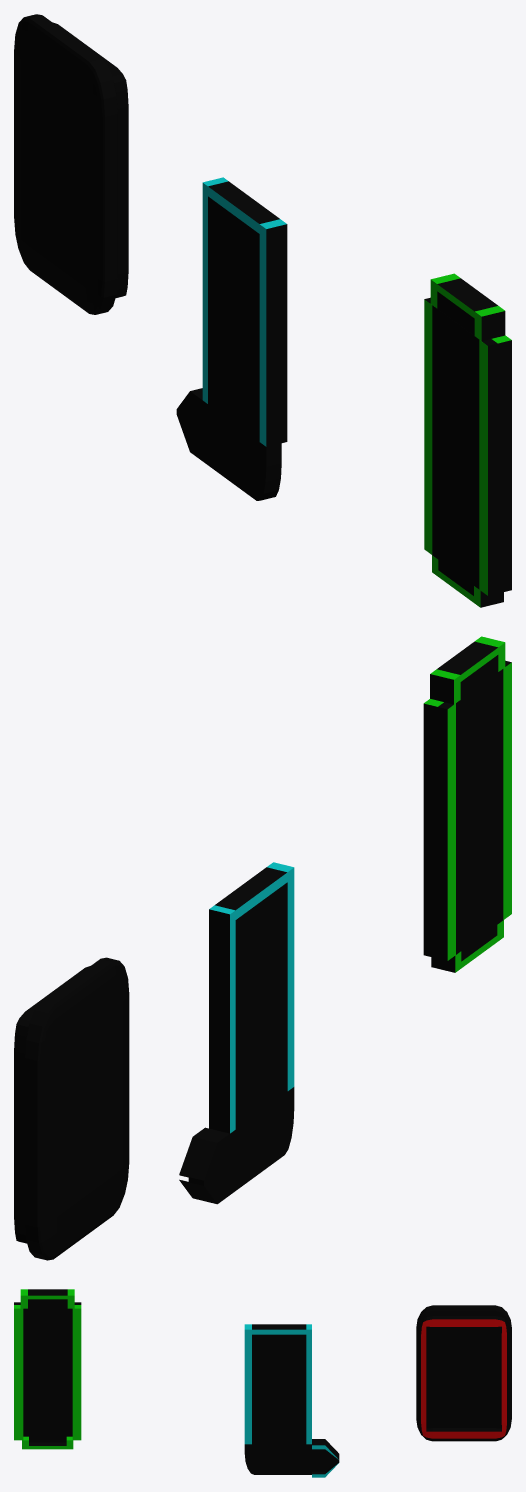
File: Signs simple shapes.fbx
3 renders of one model, top to bottom at view 1: azimuth 30°, elevation 25°; view 2: azimuth 150°, elevation 25°; view 3: azimuth 270°, elevation 25°, orthographic. The views are drawn at different scales.
Parts seen in each view (by area): view 1: Cube.001, Cube (×2), Cube.002 (×2); view 2: Cube.001, Cube.002 (×2), Cube (×2); view 3: Cube.001 (×2), Cube.002 (×2), Cube (×2).
Part boxes in pixels (x1,y1,x2,y2): Cube.001: (14,14,128,314); Cube (×2): (424,273,511,607); Cube.002 (×2): (176,177,287,500); Cube.001: (14,957,129,1260); Cube.002 (×2): (179,862,294,1204); Cube (×2): (423,636,511,972); Cube.001 (×2): (416,1305,511,1441); Cube.002 (×2): (244,1324,339,1477); Cube (×2): (14,1289,81,1449).
Bounding box in the file's own units: 58.49 × 598 × 1479.
